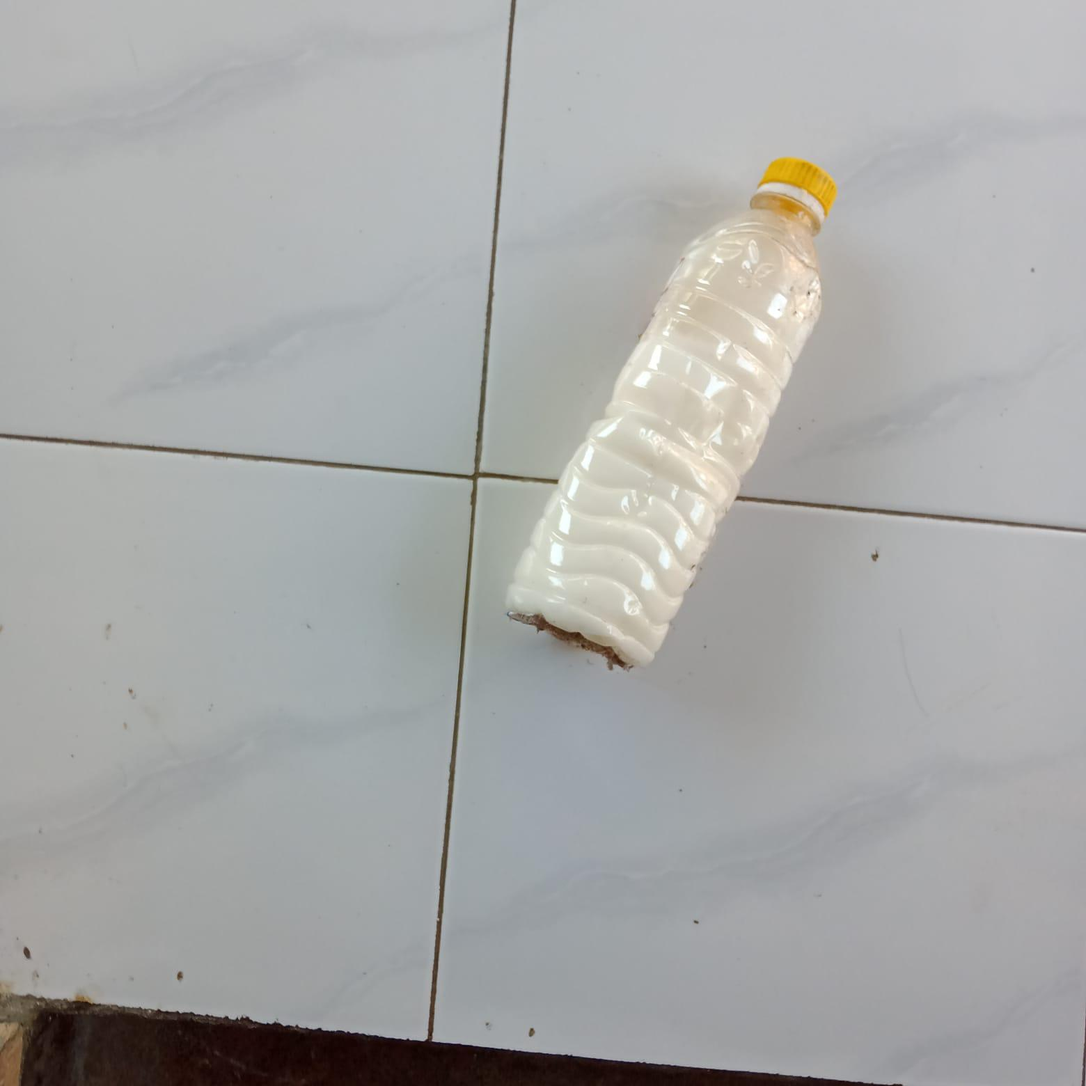Plastik: (499, 155, 840, 677)
